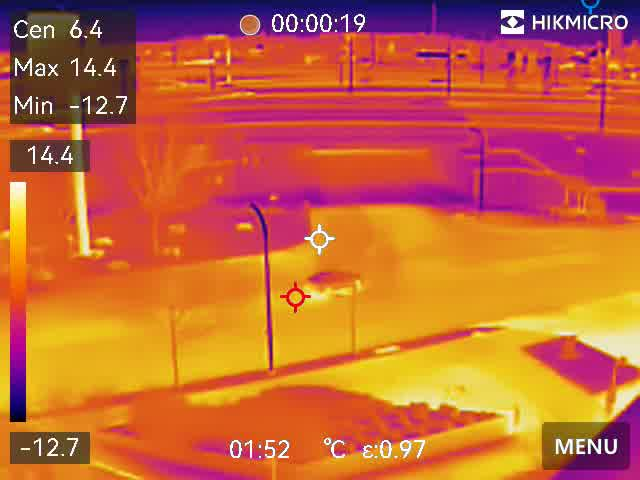smallCar: (296, 268, 366, 300)
